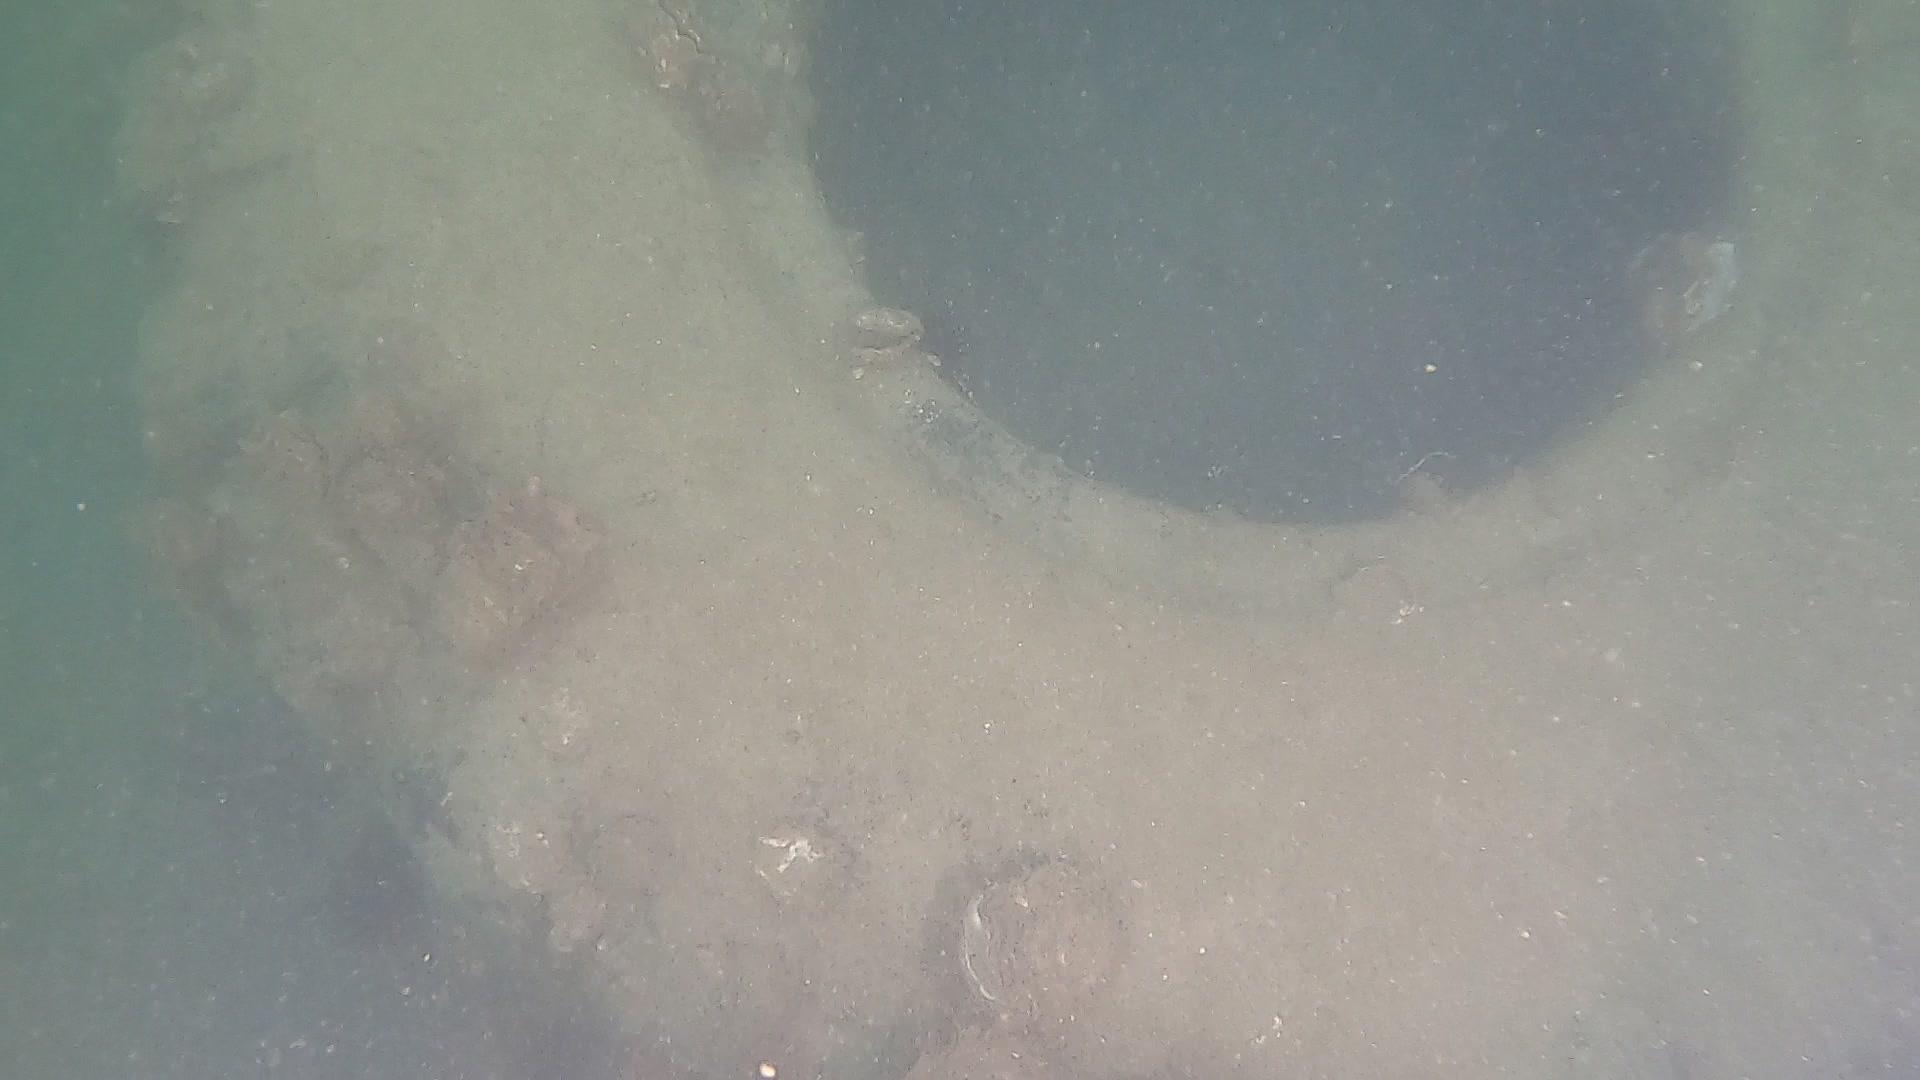tire: (105, 0, 1920, 1080)
